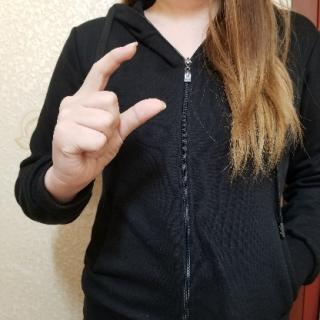DELL: (50, 38, 174, 190)
